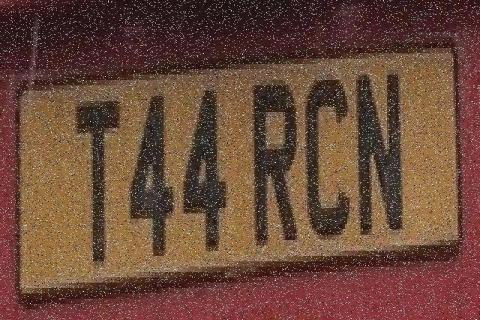LicensePlate: (8, 26, 468, 308)
